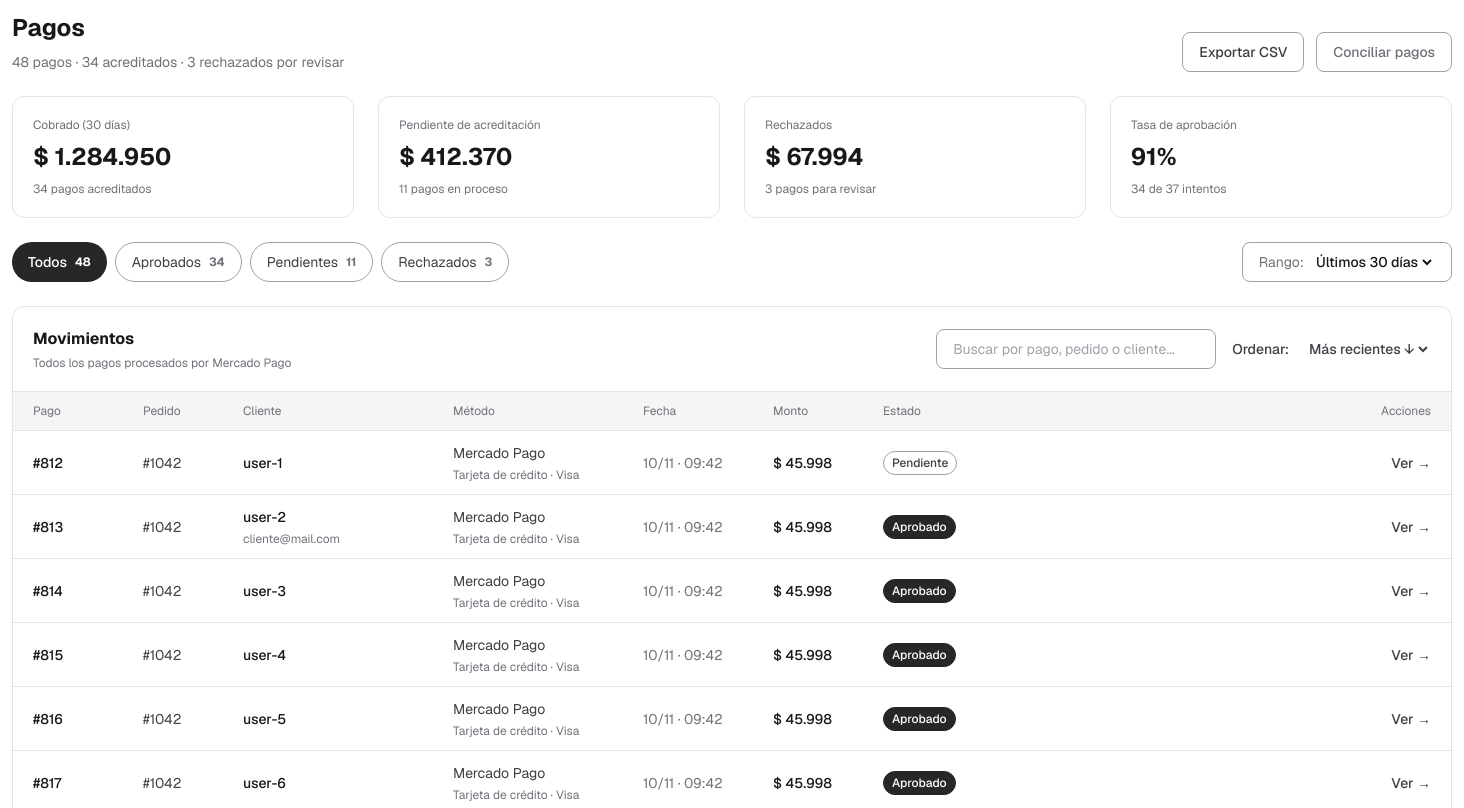
AdminPaymentsWorkspace › reports a load error through the public interface without clearing the table
Type "sin coincidencias" into the search field named "Buscar pagos" at coordinates (1076, 349), box [953,330,1199,368]
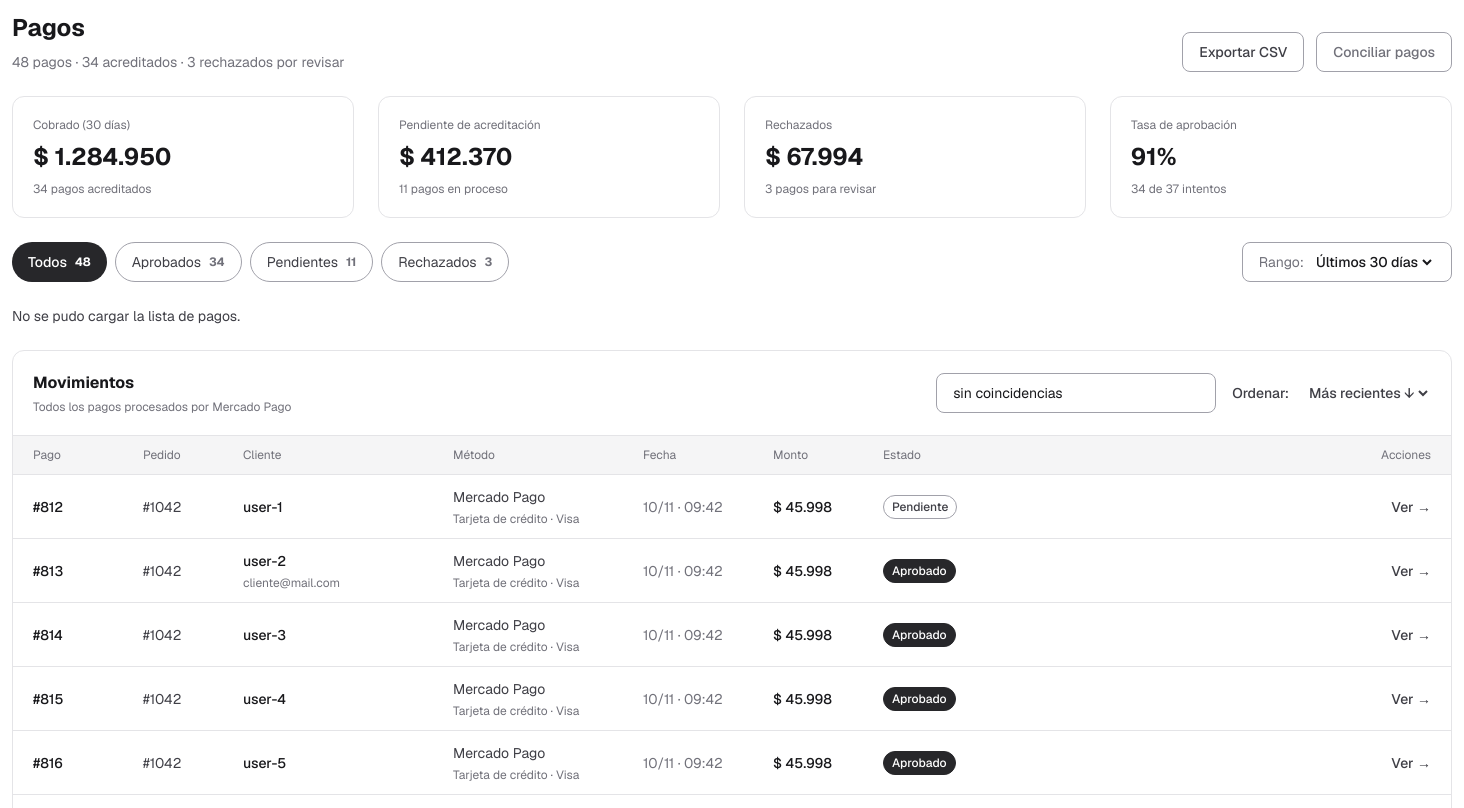
Expected: the text "#812" is shown, [33,498,63,516]
Expected: the message reads "No se pudo cargar la lista de pagos.", [12,307,240,325]
